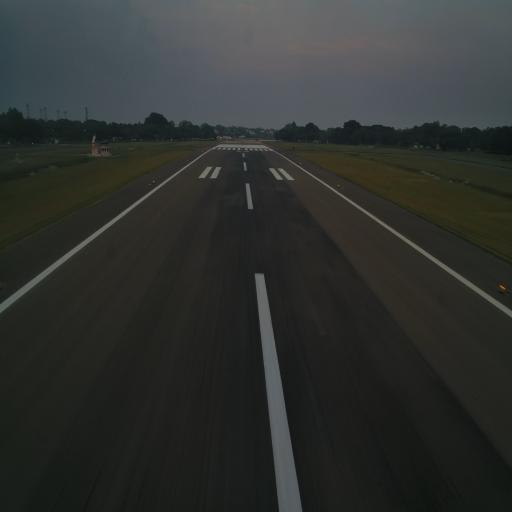on: (498, 279, 507, 293)
